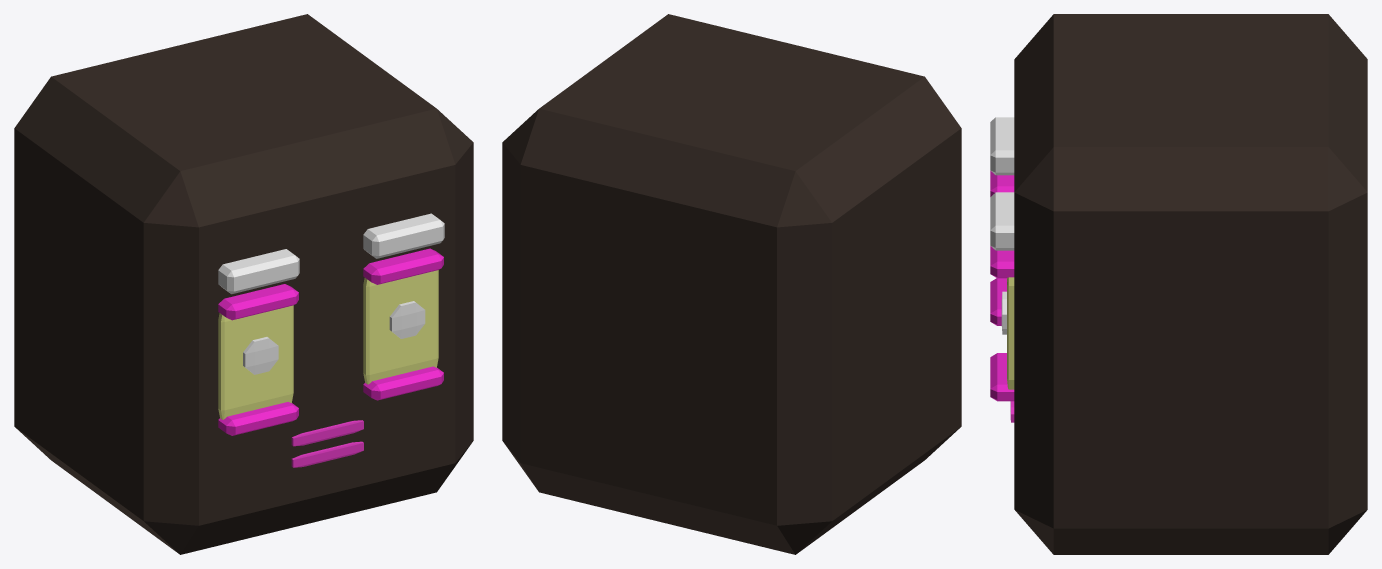
File: boss08.glb
3 views of the same model, side by side, from view 1: azimuth 30°, elevation 25°; view 2: azimuth 150°, elevation 25°; view 3: azimuth 270°, elevation 25° (orthographic). The views are drawn at different scales.
Parts seen in each view (by area): view 1: head, Cube.002, EyeBrown, lip_up, lip_up.001, eye, eyes, mouth', mouth; view 2: head; view 3: head, EyeBrown, lip_up.001, lip_up, Cube.002.
Part boxes in pixels (<box>): head: <box>14,14,473,554</box>; Cube.002: <box>218,270,438,419</box>; EyeBrown: <box>218,213,444,294</box>; lip_up: <box>218,248,443,320</box>; lip_up.001: <box>218,366,443,435</box>; eye: <box>389,301,425,338</box>; eyes: <box>243,337,278,374</box>; mouth': <box>291,441,363,467</box>; mouth: <box>291,420,363,446</box>; head: <box>502,14,961,554</box>; head: <box>1014,14,1367,554</box>; EyeBrown: <box>990,117,1014,250</box>; lip_up.001: <box>990,278,1014,401</box>; lip_up: <box>990,171,1014,278</box>; Cube.002: <box>1007,277,1014,389</box>.
Bounding box in the file's own units: 1.8 × 2 × 1.68.
